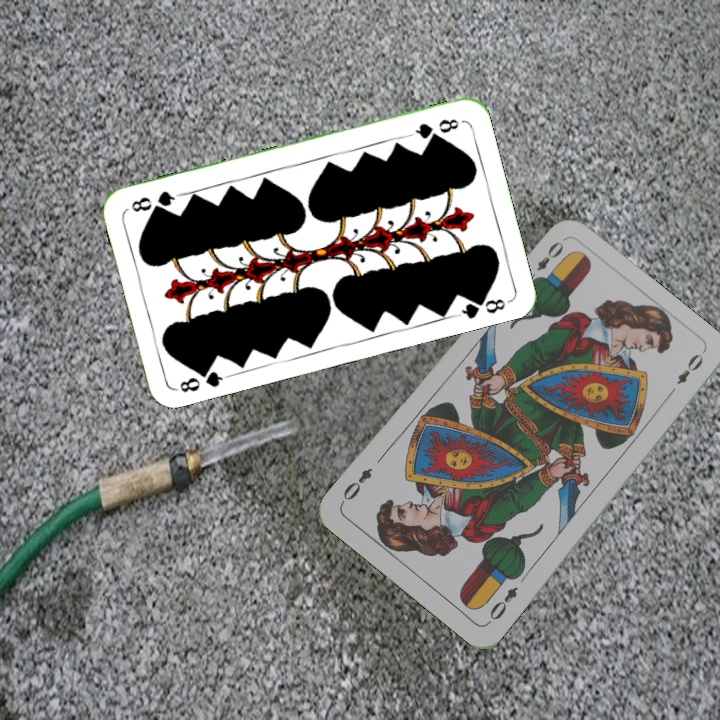EO: (523, 237, 567, 286), (483, 582, 521, 627)
G8: (173, 362, 231, 395), (406, 114, 462, 141)
